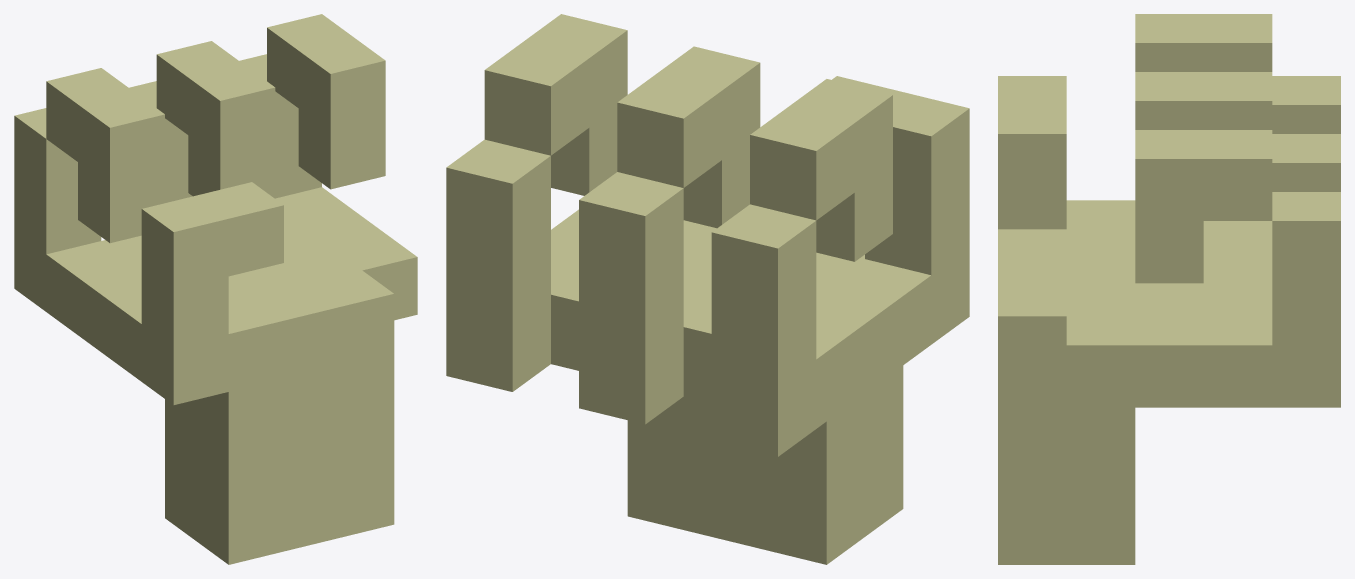
File: ossos-4.obj
3 views of the same model, side by side, from view 1: azimuth 30°, elevation 25°; view 2: azimuth 150°, elevation 25°; view 3: azimuth 270°, elevation 25° (orthographic). The views are drawn at different scales.
Size of the model in its own units: 0.5 by 0.7 by 0.5.
1 material, 1 textured.
